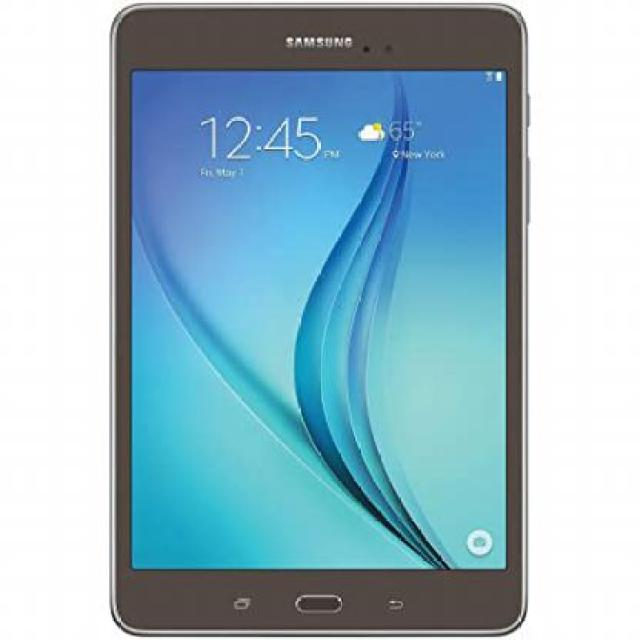tablet: (94, 0, 576, 640)
